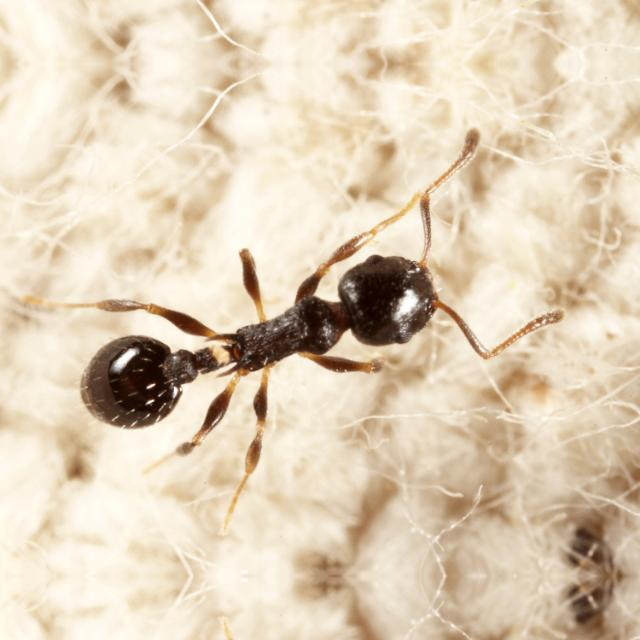Temnothorax: (27, 184, 516, 468)
